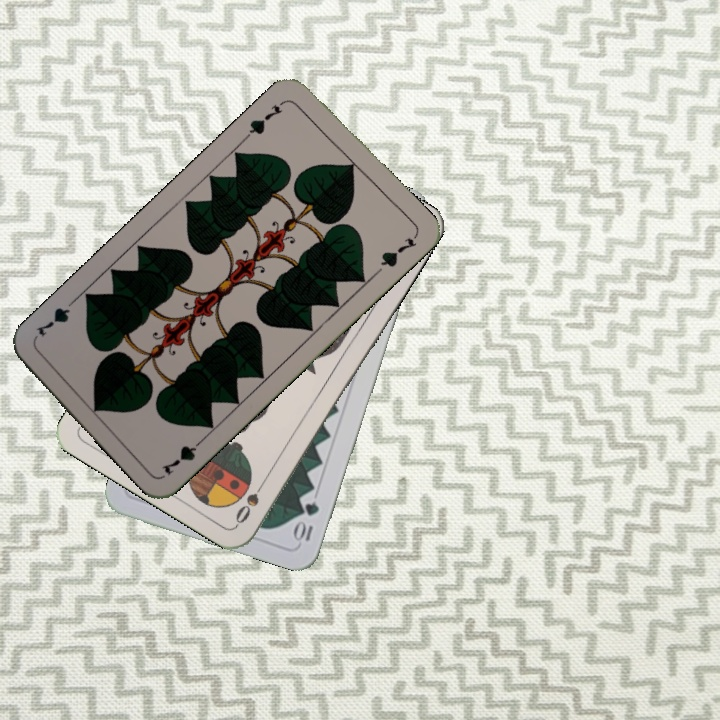G10: (291, 498, 322, 546)
G7: (157, 432, 208, 479), (242, 96, 289, 142)
SO: (231, 474, 270, 527)
